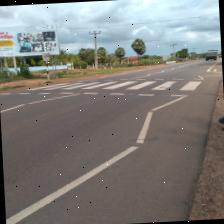crossing: (0, 67, 211, 125)
